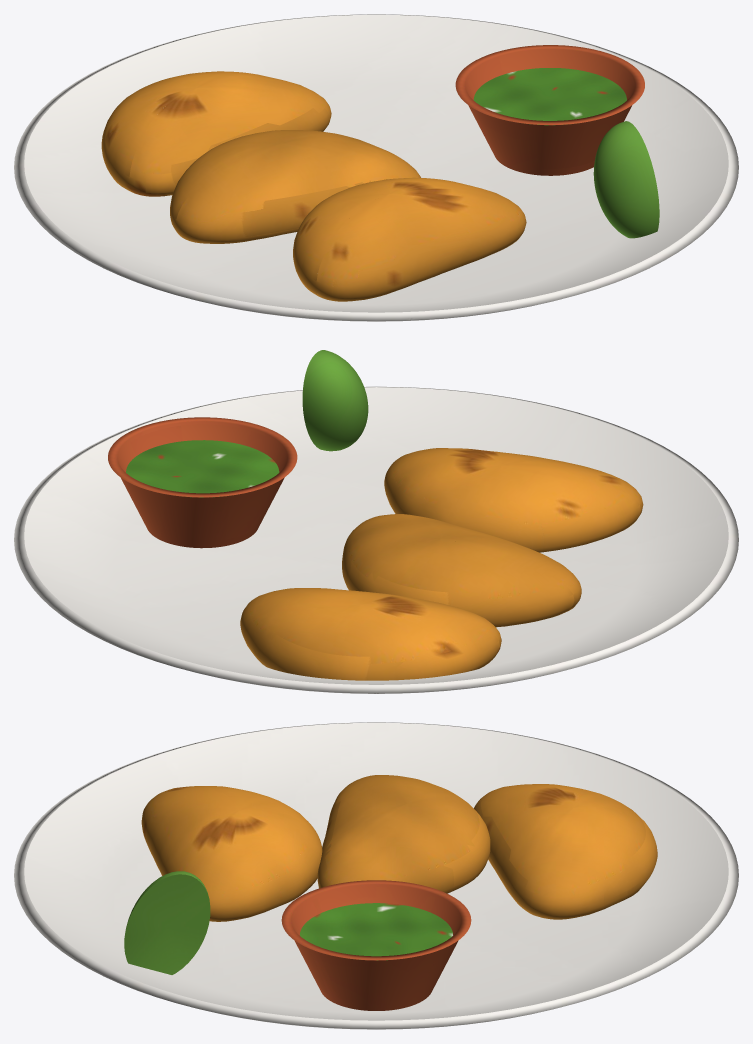
The model's file is empanadas.glb.
The picture shows the model from 3 angles, top to bottom: view 1: azimuth 30°, elevation 25°; view 2: azimuth 150°, elevation 25°; view 3: azimuth 270°, elevation 25°; orthographic projection.
Visible parts, largest first — view 1: plato, empanadas, cuenco, aji, limon; view 2: plato, empanadas, cuenco, aji, limon; view 3: plato, empanadas, cuenco, limon, aji.
Boxes of the visible parts, x1,y1,x2,y2 form: plato: (14, 14, 738, 321); empanadas: (101, 71, 526, 301); cuenco: (455, 45, 644, 175); aji: (473, 68, 626, 125); limon: (593, 121, 659, 238); plato: (14, 386, 738, 693); empanadas: (240, 448, 643, 680); cuenco: (108, 417, 297, 548); aji: (126, 440, 279, 497); limon: (302, 350, 368, 451); plato: (14, 722, 738, 1029); empanadas: (141, 775, 657, 921); cuenco: (281, 880, 471, 1010); limon: (124, 871, 210, 974); aji: (300, 903, 452, 960).
Bounding box in the file's own units: 0.26 × 0.0475 × 0.26.
5 materials, 5 textured.
